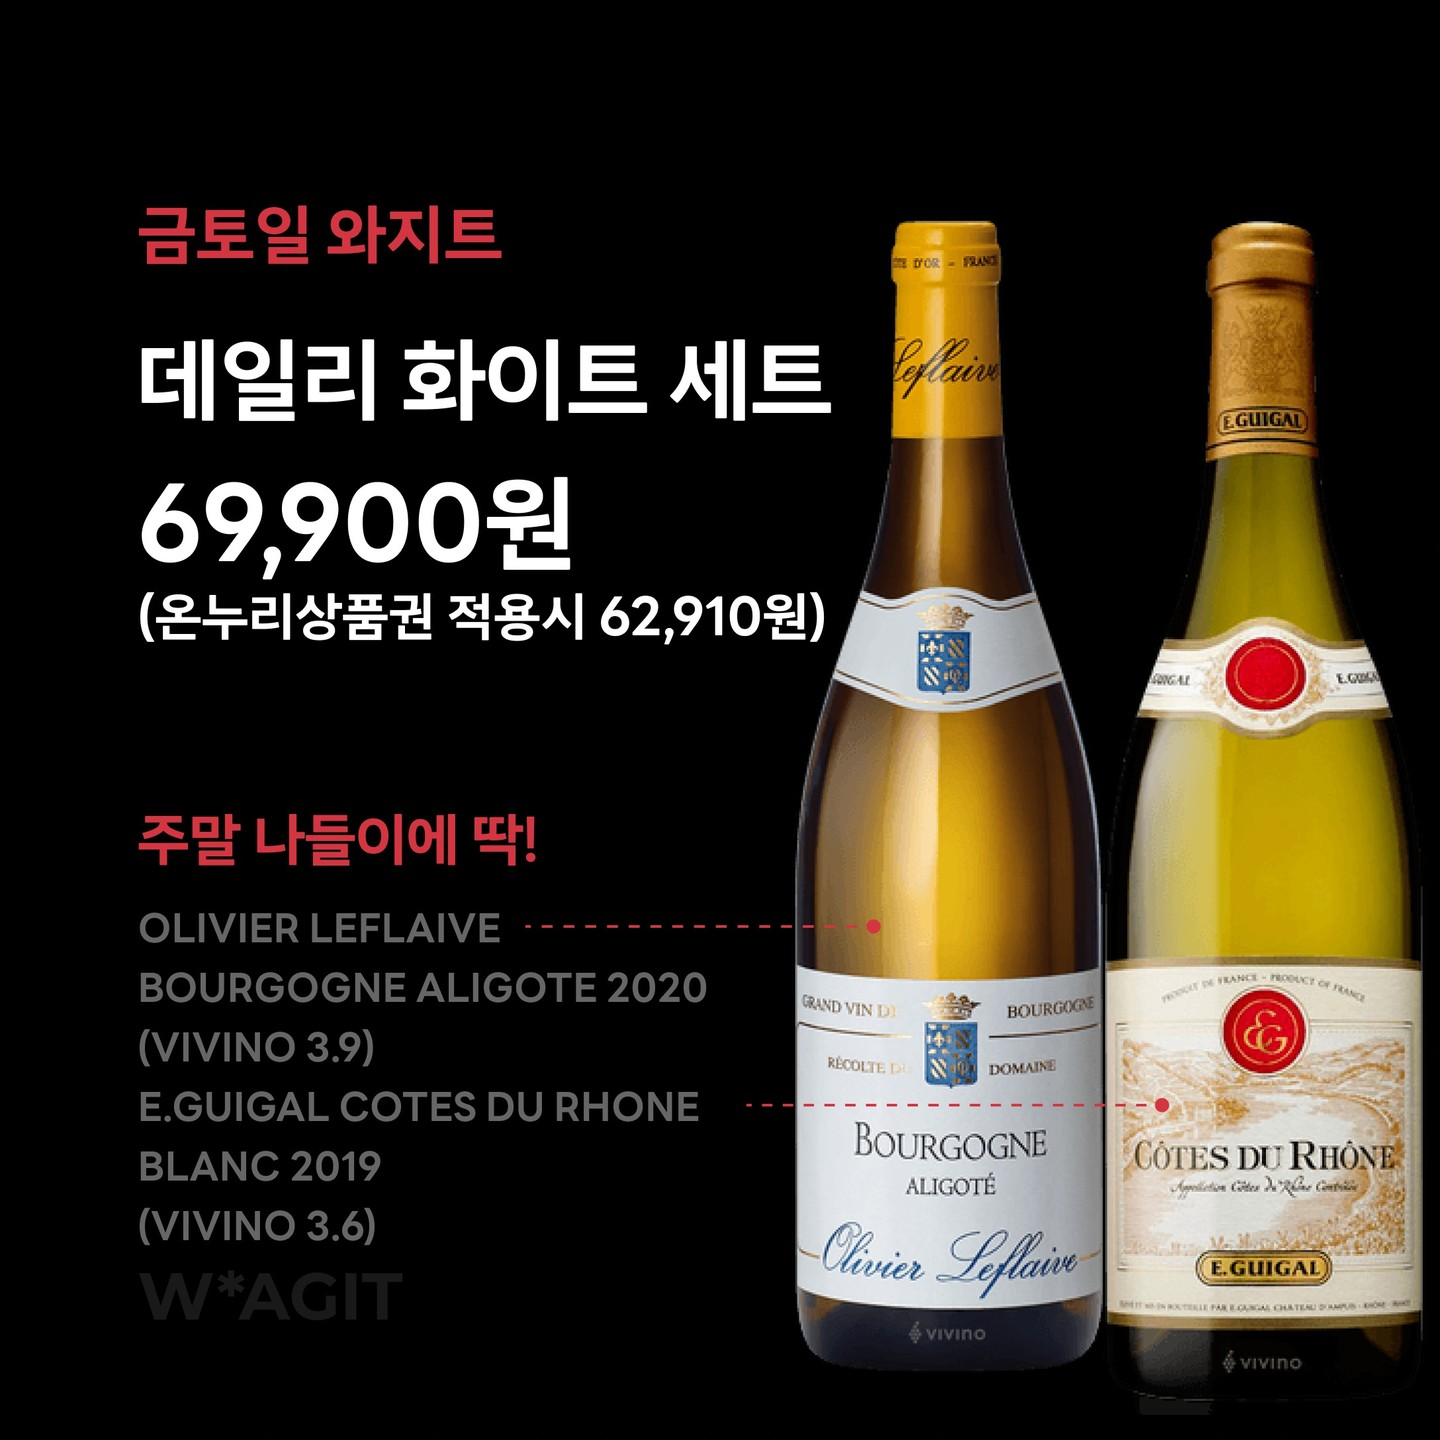alcohol: (1092, 208, 1429, 1431), (785, 210, 1109, 1385)
